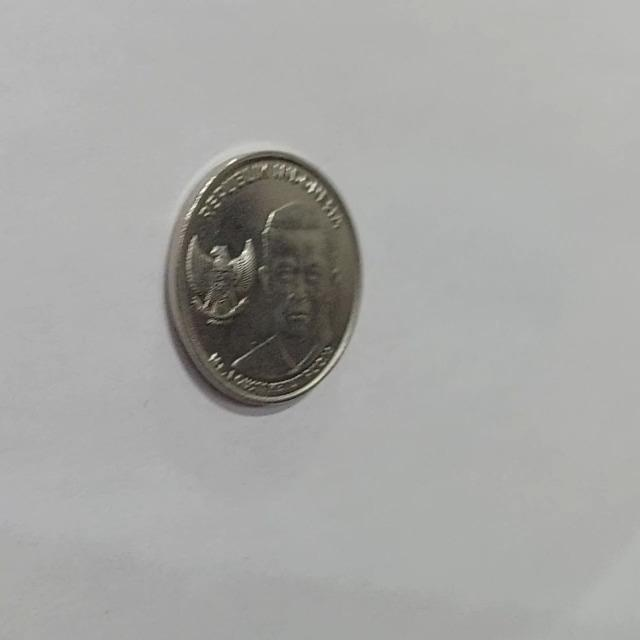Rp100: (163, 147, 364, 408)
